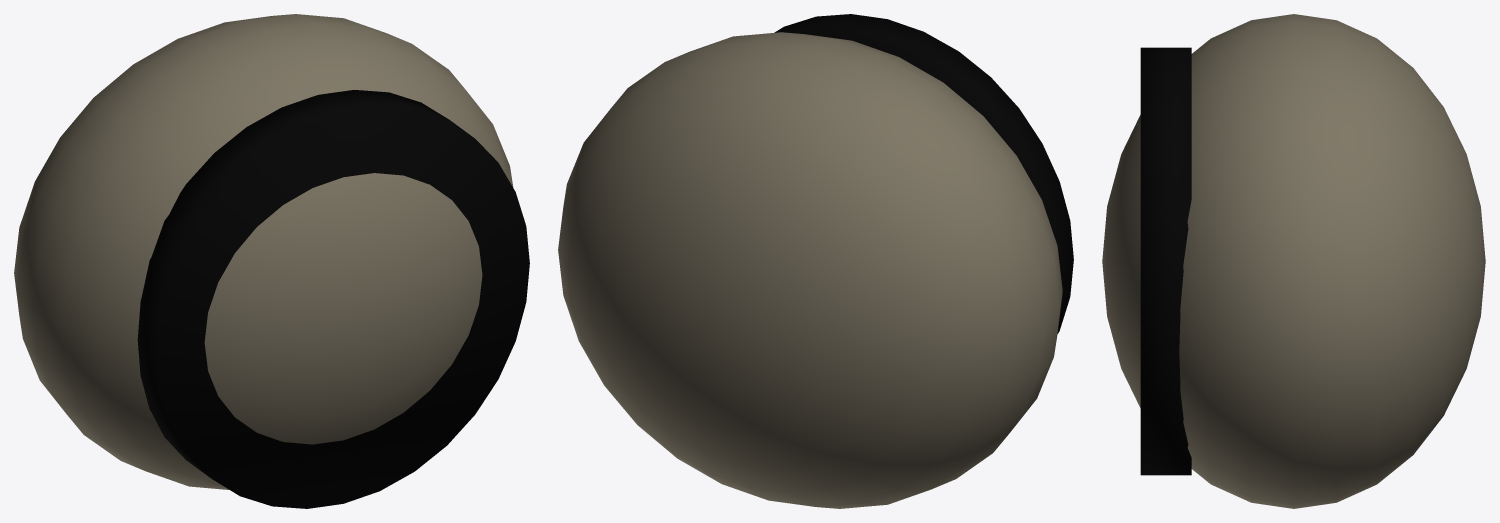
The model's file is lidar.obj.
The picture shows the model from 3 angles, left to right: view 1: azimuth 30°, elevation 25°; view 2: azimuth 150°, elevation 25°; view 3: azimuth 270°, elevation 25°; orthographic projection.
Visible parts, largest first — view 1: lidar; view 2: lidar; view 3: lidar.
Boxes of the visible parts, <box> form: lidar: <box>14,14,529,508</box>; lidar: <box>558,14,1073,508</box>; lidar: <box>1102,14,1485,508</box>.
Bounding box in the file's own units: 0.084 × 0.076 × 0.06.
